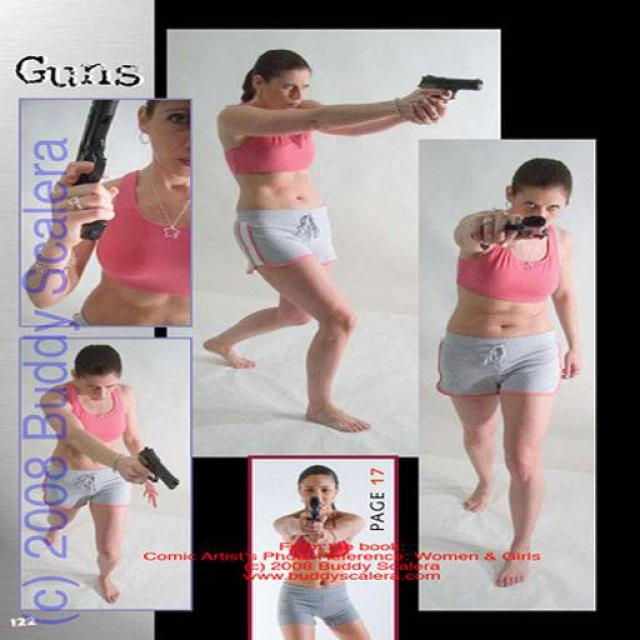pistol: (59, 96, 120, 237), (479, 214, 550, 253), (412, 73, 485, 109), (136, 447, 177, 490), (303, 496, 319, 522)
